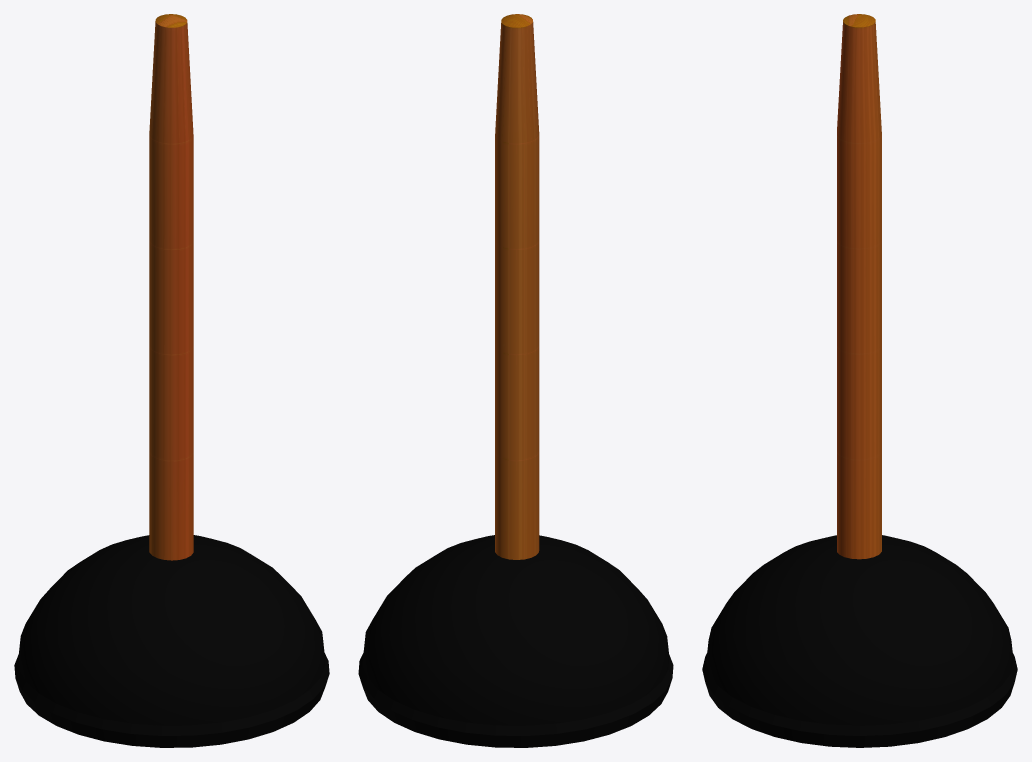
The model's file is Plunger.fbx.
The picture shows the model from 3 angles, left to right: view 1: azimuth 30°, elevation 25°; view 2: azimuth 150°, elevation 25°; view 3: azimuth 270°, elevation 25°; orthographic projection.
Visible parts, largest first — view 1: Sphere002, Plunger; view 2: Sphere002, Plunger; view 3: Sphere002, Plunger.
Boxes of the visible parts, <box> form: Sphere002: <box>14,535,329,747</box>; Plunger: <box>149,14,193,560</box>; Sphere002: <box>358,535,673,747</box>; Plunger: <box>495,14,539,559</box>; Sphere002: <box>702,535,1017,747</box>; Plunger: <box>837,14,881,559</box>.
Bounding box in the file's own units: 4.84 × 11.31 × 4.84.
